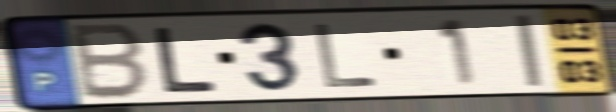1: (432, 16, 478, 89)
3: (231, 20, 306, 95)
B: (70, 21, 152, 102)
I: (509, 12, 548, 90)
L: (311, 21, 382, 91), (150, 25, 220, 95)
